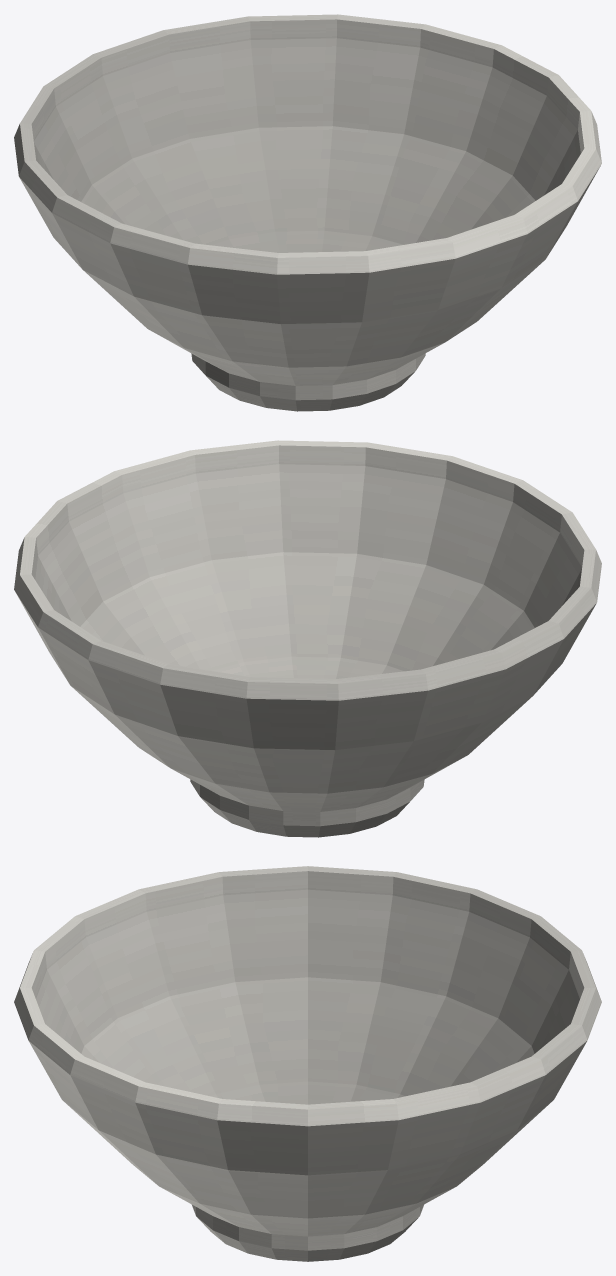
File: bowl.glb
3 views of the same model, one above another, from view 1: azimuth 30°, elevation 25°; view 2: azimuth 150°, elevation 25°; view 3: azimuth 270°, elevation 25° (orthographic).
Visible parts, largest first — view 1: home_bowl; view 2: home_bowl; view 3: home_bowl.
Part boxes in pixels (left/top/right/bottom): home_bowl: left=14, top=14, right=601, bottom=411; home_bowl: left=14, top=440, right=601, bottom=837; home_bowl: left=14, top=866, right=601, bottom=1261.
Bounding box in the file's own units: 0.15 × 0.065 × 0.15.
1 material, 1 textured.
